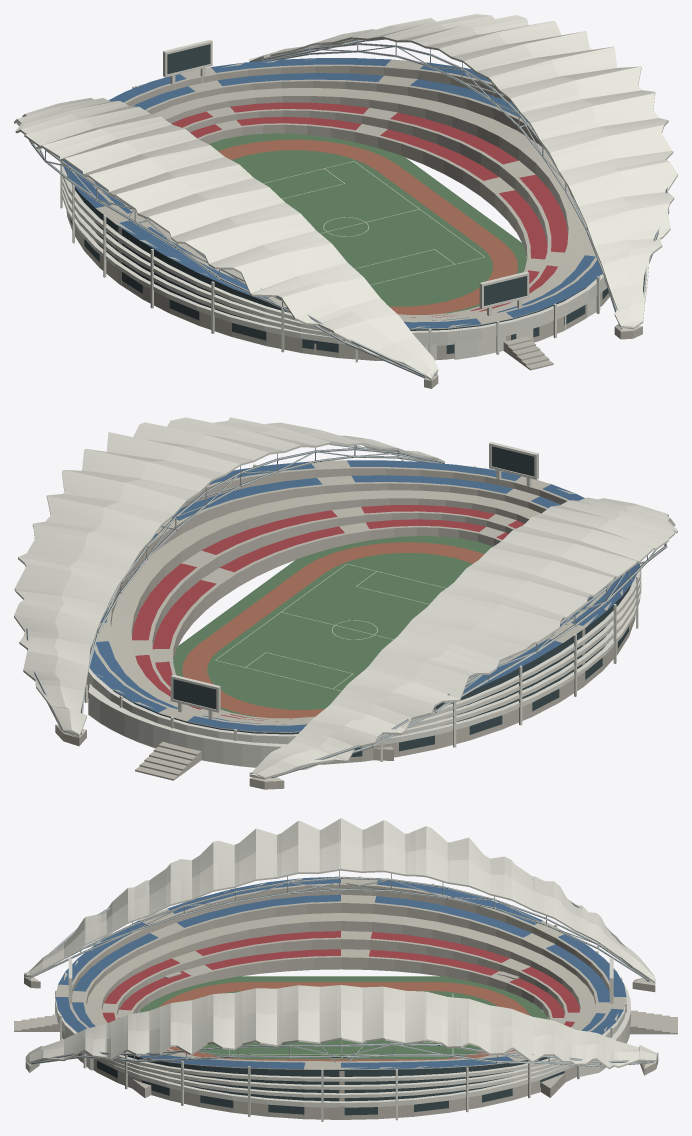
File: estadio-nacional-costa-rica-far.glb
The picture shows the model from 3 angles, top to bottom: view 1: azimuth 30°, elevation 25°; view 2: azimuth 150°, elevation 25°; view 3: azimuth 270°, elevation 25°; orthographic projection. The views are drawn at different scales.
Visible parts, largest first — view 1: estadio-nacional-costa-rica-0-white, estadio-nacional-costa-rica-0-concrete, estadio-nacional-costa-rica-0-grass, estadio-nacional-costa-rica-0-blue, estadio-nacional-costa-rica-0-red, estadio-nacional-costa-rica-0-track, estadio-nacional-costa-rica-0-glass, estadio-nacional-costa-rica-0-steel; view 2: estadio-nacional-costa-rica-0-white, estadio-nacional-costa-rica-0-concrete, estadio-nacional-costa-rica-0-grass, estadio-nacional-costa-rica-0-blue, estadio-nacional-costa-rica-0-red, estadio-nacional-costa-rica-0-track, estadio-nacional-costa-rica-0-glass, estadio-nacional-costa-rica-0-steel; view 3: estadio-nacional-costa-rica-0-white, estadio-nacional-costa-rica-0-concrete, estadio-nacional-costa-rica-0-blue, estadio-nacional-costa-rica-0-steel, estadio-nacional-costa-rica-0-glass, estadio-nacional-costa-rica-0-red, estadio-nacional-costa-rica-0-grass, estadio-nacional-costa-rica-0-track.
Part boxes in pixels (x1,y1,x2,y2): estadio-nacional-costa-rica-0-white: (14, 14, 677, 380); estadio-nacional-costa-rica-0-concrete: (66, 58, 642, 388); estadio-nacional-costa-rica-0-grass: (208, 133, 526, 313); estadio-nacional-costa-rica-0-blue: (62, 58, 602, 328); estadio-nacional-costa-rica-0-red: (171, 102, 567, 317); estadio-nacional-costa-rica-0-track: (218, 139, 517, 314); estadio-nacional-costa-rica-0-glass: (69, 44, 608, 353); estadio-nacional-costa-rica-0-steel: (28, 38, 669, 378); estadio-nacional-costa-rica-0-white: (14, 417, 677, 779); estadio-nacional-costa-rica-0-concrete: (55, 460, 635, 789); estadio-nacional-costa-rica-0-grass: (173, 536, 492, 716); estadio-nacional-costa-rica-0-blue: (89, 460, 639, 732); estadio-nacional-costa-rica-0-red: (132, 505, 524, 721); estadio-nacional-costa-rica-0-track: (182, 542, 484, 718); estadio-nacional-costa-rica-0-glass: (97, 446, 631, 757); estadio-nacional-costa-rica-0-steel: (26, 444, 667, 778); estadio-nacional-costa-rica-0-white: (24, 818, 658, 1121); estadio-nacional-costa-rica-0-concrete: (14, 876, 677, 1119); estadio-nacional-costa-rica-0-blue: (55, 876, 626, 1069); estadio-nacional-costa-rica-0-steel: (28, 871, 653, 1067); estadio-nacional-costa-rica-0-glass: (79, 1033, 603, 1115); estadio-nacional-costa-rica-0-red: (103, 931, 579, 1052); estadio-nacional-costa-rica-0-grass: (138, 976, 547, 1059); estadio-nacional-costa-rica-0-track: (159, 982, 529, 1061).
Size of the model in its own units: 245 by 52.6 by 312.
